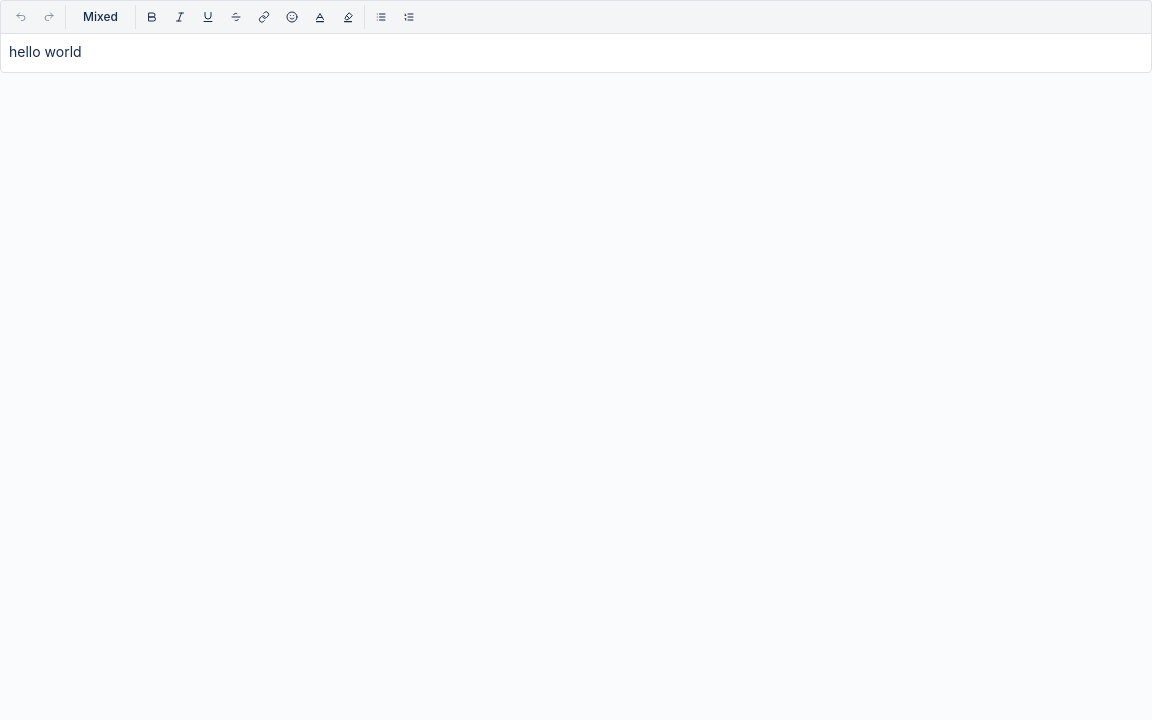
RichTextEditor toolbar › Emoji toolbar button replaces a non-collapsed selection
This screenshot has width=1152, height=720.
Click the button named "Emoji".
click(292, 17)  # box [280,5,304,29]
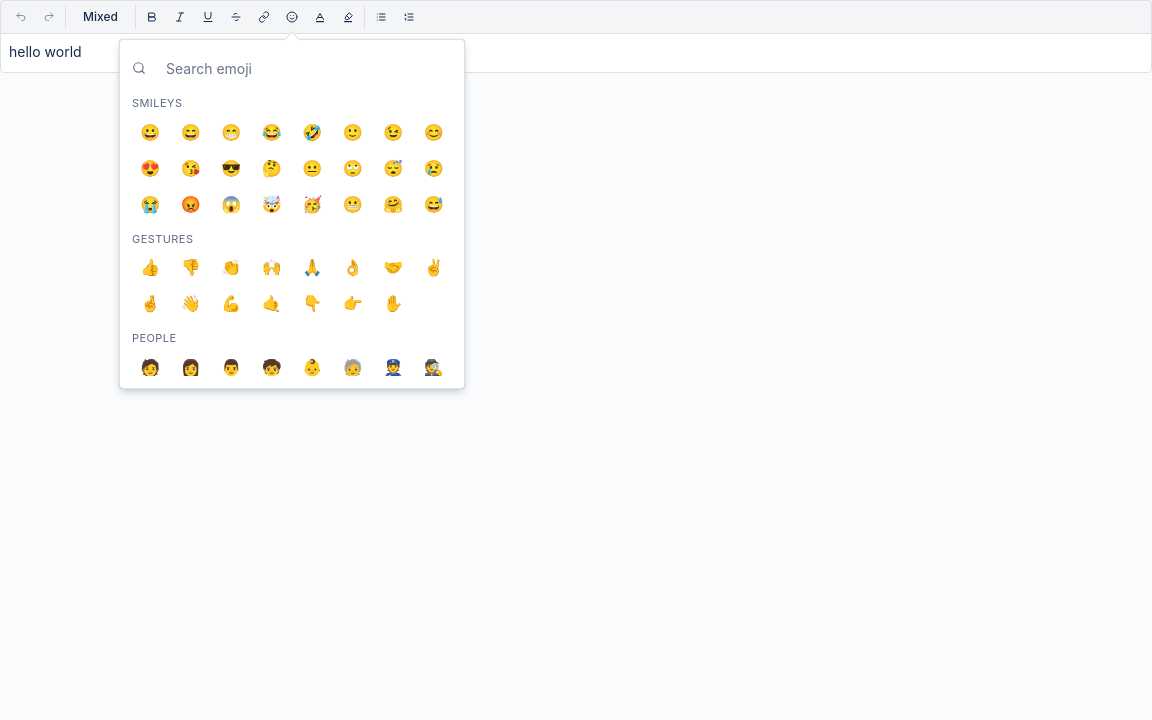
Click the option "😀".
click(150, 132)  # box [132,116,168,148]
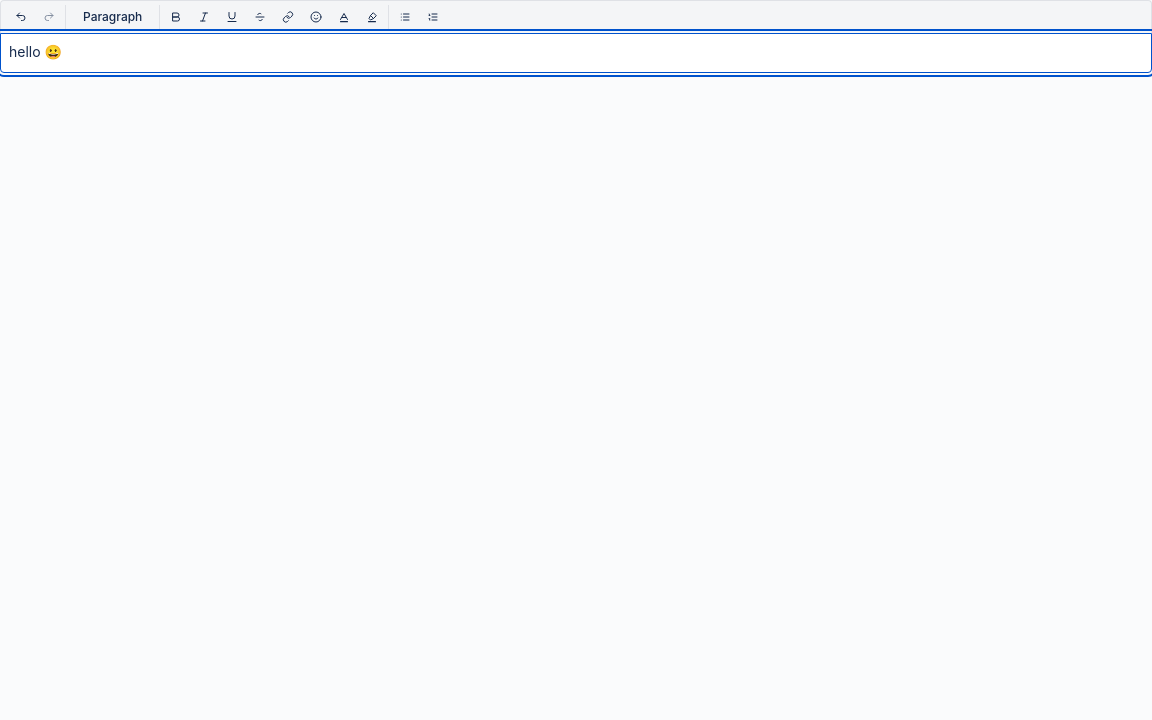
Result: the field named "Rich text editor" shows "😀" at [0,33,1151,73]
Result: the field labelled "Rich text editor" no longer shows "world"
